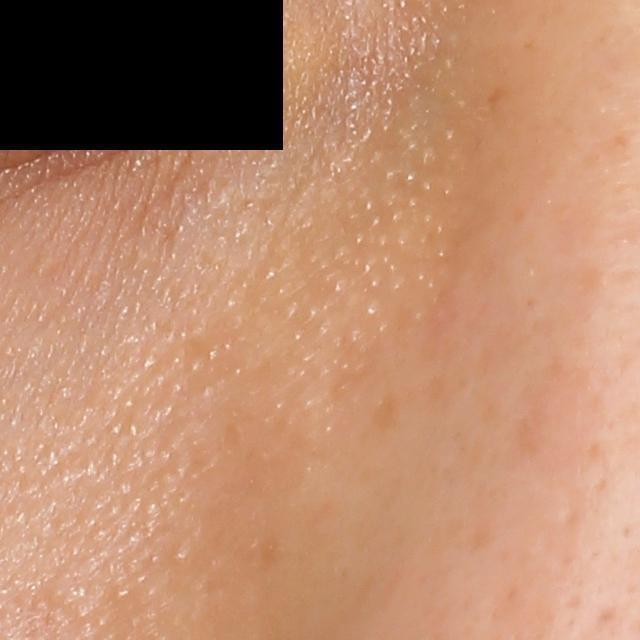melasma: (370, 390, 403, 428)
